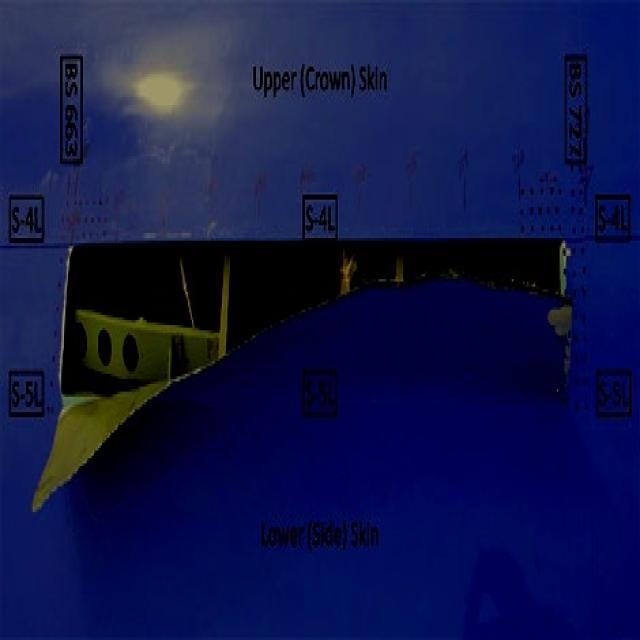crack: (31, 237, 570, 519)
